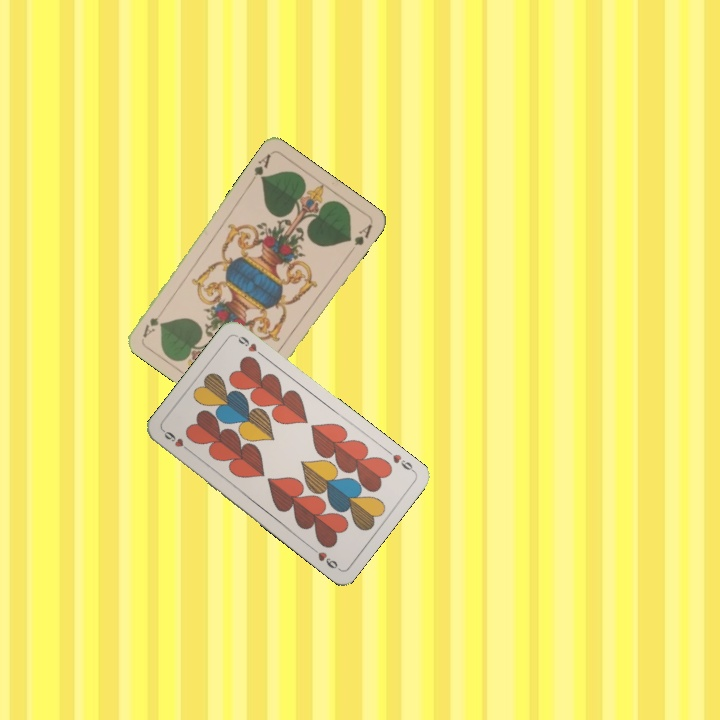GA: (246, 150, 274, 186)
H9: (159, 426, 194, 455), (383, 446, 417, 475)
